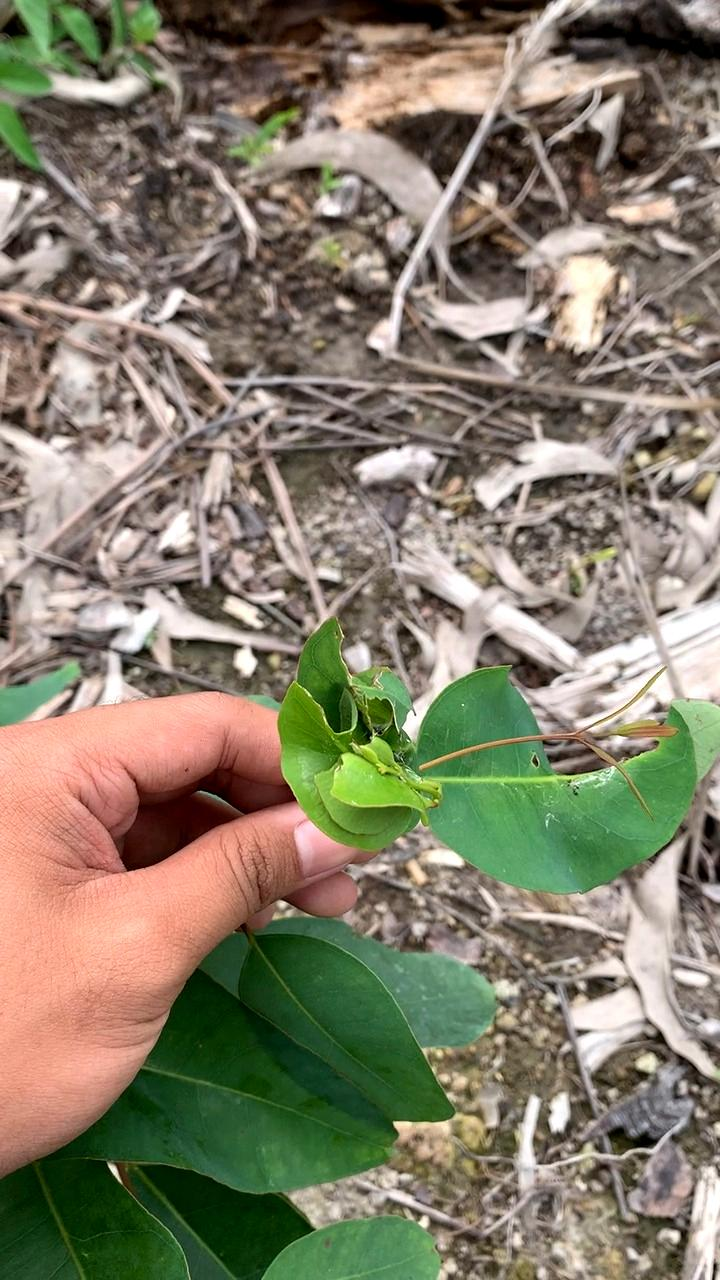Leaf Roller - Leaf: (259, 605, 455, 873)
